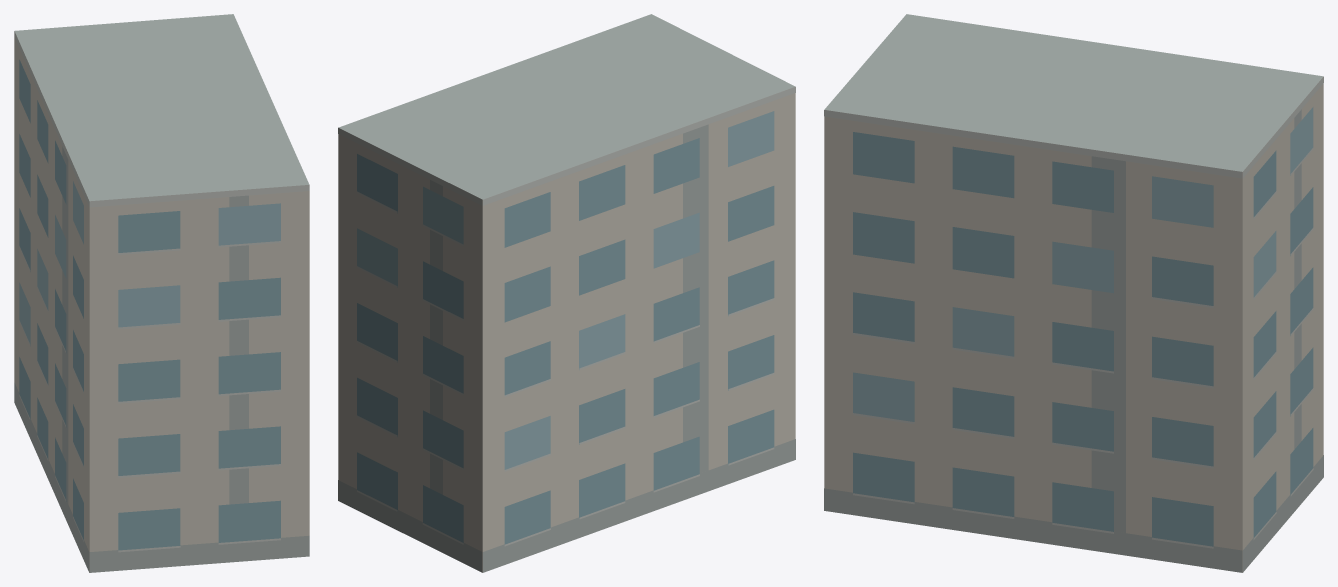
The model's file is survey-upis-32888335.glb.
3 views of the same model, side by side, from view 1: azimuth 30°, elevation 25°; view 2: azimuth 150°, elevation 25°; view 3: azimuth 270°, elevation 25° (orthographic). The views are drawn at different scales.
Parts seen in each view (by area): view 1: survey-upis-32888335.tmp; view 2: survey-upis-32888335.tmp; view 3: survey-upis-32888335.tmp.
Part boxes in pixels (x1,y1,x2,y2): survey-upis-32888335.tmp: (14,14,309,572); survey-upis-32888335.tmp: (338,14,795,572); survey-upis-32888335.tmp: (824,14,1323,572).
Size of the model in its own units: 12.35 by 14.61 by 16.51.
